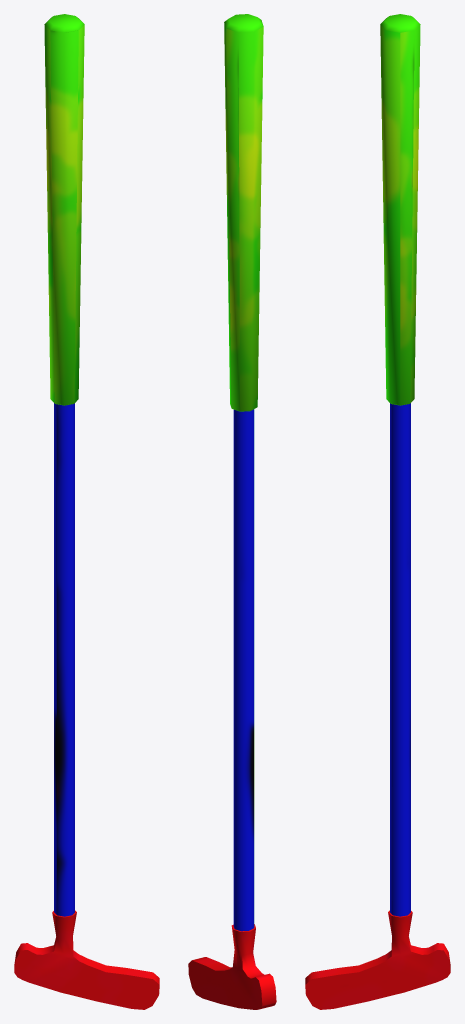
Rendered from golf_club.fbx.
The picture shows the model from 3 angles, left to right: view 1: azimuth 90°, elevation 25°; view 2: azimuth 210°, elevation 25°; view 3: azimuth 270°, elevation 25°; orthographic projection.
Parts seen in each view (by area): view 1: Handle, Shaft, Head; view 2: Handle, Shaft, Head; view 3: Handle, Shaft, Head.
Boxes of the visible parts, x1=… form: Handle: x1=44, y1=14, x2=84, y2=405; Shaft: x1=54, y1=403, x2=74, y2=916; Head: x1=14, y1=910, x2=159, y2=1009; Handle: x1=224, y1=14, x2=263, y2=411; Shaft: x1=233, y1=409, x2=254, y2=931; Head: x1=188, y1=924, x2=276, y2=1009; Handle: x1=380, y1=14, x2=420, y2=405; Shaft: x1=390, y1=403, x2=410, y2=916; Head: x1=305, y1=910, x2=450, y2=1009.
Bounding box in the file's own units: 0.024 × 0.6495 × 0.0869.
